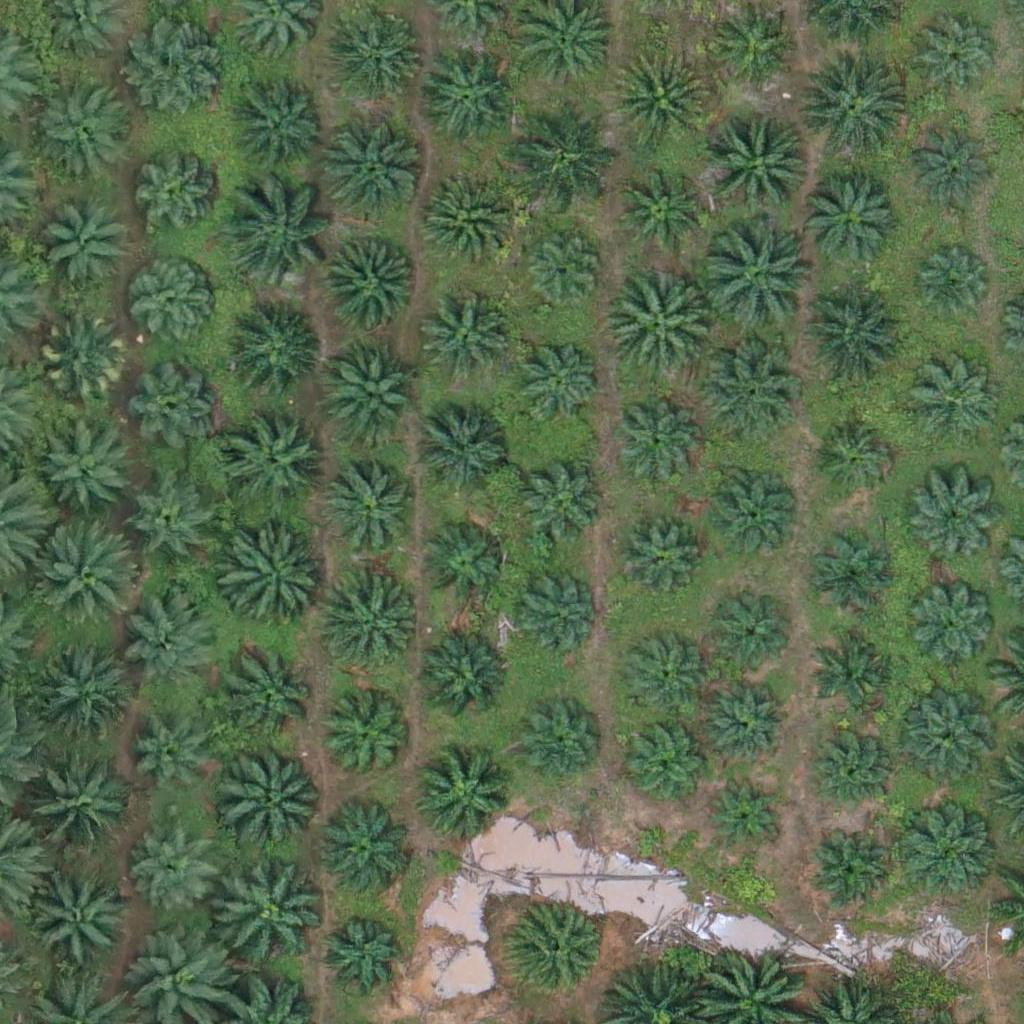Kelapa_Sawit: (19, 753, 132, 867), (791, 287, 904, 400), (700, 224, 813, 337), (226, 180, 339, 293), (212, 855, 325, 968), (511, 96, 624, 209), (218, 740, 330, 854), (706, 109, 818, 223), (600, 268, 712, 381), (32, 522, 144, 635), (793, 52, 905, 165), (896, 695, 996, 796), (800, 174, 900, 275), (697, 341, 797, 442), (414, 170, 514, 271), (416, 399, 516, 500), (412, 631, 512, 732), (413, 747, 513, 848), (322, 575, 422, 676), (226, 303, 326, 404), (222, 415, 322, 516), (222, 531, 322, 632), (31, 869, 131, 970), (37, 420, 137, 521), (32, 79, 132, 180), (130, 16, 230, 117), (230, 75, 330, 176), (324, 118, 424, 219), (419, 50, 519, 151), (609, 49, 709, 150), (895, 801, 995, 901), (507, 903, 607, 1003), (321, 237, 421, 337), (322, 342, 422, 442), (315, 803, 415, 903), (224, 647, 324, 747), (125, 591, 225, 691), (32, 647, 132, 747), (331, 5, 431, 105), (908, 481, 996, 569), (908, 582, 996, 670), (522, 227, 610, 315), (511, 334, 599, 422), (515, 462, 603, 550), (508, 564, 596, 652), (610, 512, 698, 600), (708, 467, 796, 555), (807, 830, 895, 918), (809, 413, 897, 501), (424, 295, 512, 383), (324, 697, 412, 785), (316, 910, 404, 998), (616, 170, 704, 258), (907, 127, 995, 215), (914, 9, 1002, 97), (515, 699, 602, 787), (625, 716, 712, 804), (621, 631, 708, 719), (612, 395, 699, 483), (706, 592, 793, 680), (707, 676, 794, 764), (805, 720, 892, 808), (813, 623, 900, 711), (805, 526, 892, 614), (911, 358, 998, 446), (420, 517, 507, 605), (329, 461, 416, 549), (132, 155, 219, 243), (129, 264, 216, 352), (132, 363, 219, 451), (129, 480, 216, 568), (129, 724, 216, 812), (134, 829, 221, 917), (39, 316, 126, 404), (38, 201, 125, 289), (915, 248, 990, 324), (708, 773, 783, 849)
